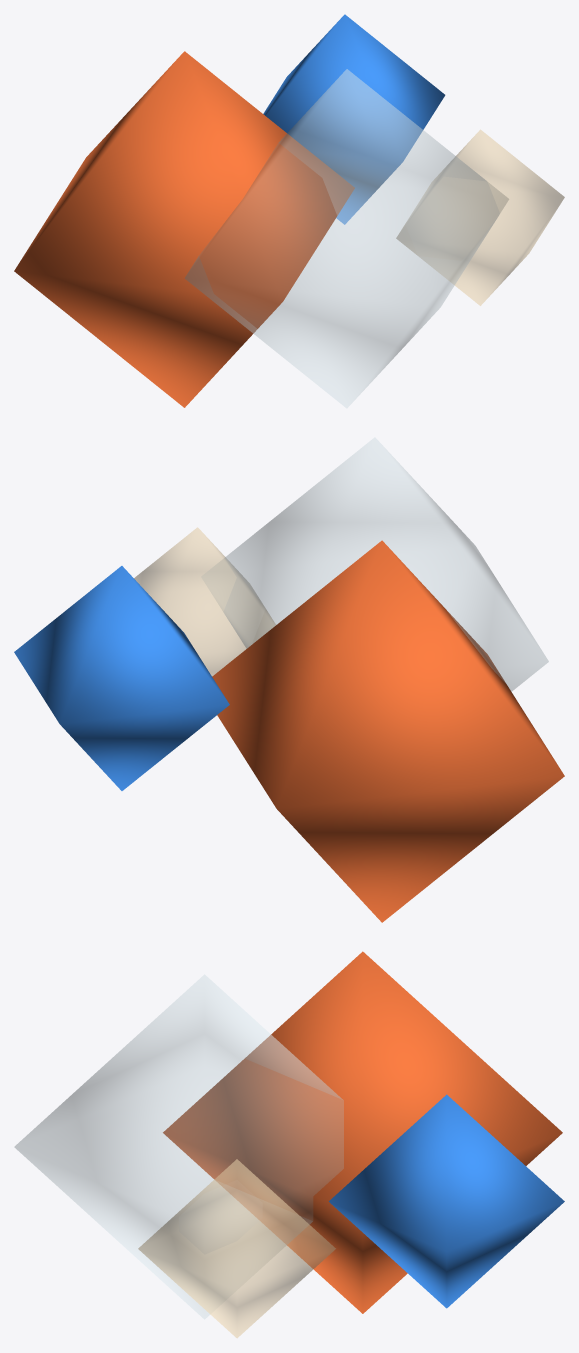
The model's file is glass_material_test.gltf.
The picture shows the model from 3 angles, top to bottom: view 1: azimuth 30°, elevation 25°; view 2: azimuth 150°, elevation 25°; view 3: azimuth 270°, elevation 25°; orthographic projection. The views are drawn at different scales.
Visible parts, largest first — view 1: WarmBackground, TransmissionCrystal, CoolBackground, RoughTransmissionCrystal; view 2: WarmBackground, TransmissionCrystal, CoolBackground, RoughTransmissionCrystal; view 3: TransmissionCrystal, WarmBackground, CoolBackground, RoughTransmissionCrystal.
Part boxes in pixels (<box>): WarmBackground: <box>14,51,354,407</box>; TransmissionCrystal: <box>185,69,508,408</box>; CoolBackground: <box>263,14,445,224</box>; RoughTransmissionCrystal: <box>396,129,564,305</box>; WarmBackground: <box>212,540,564,922</box>; TransmissionCrystal: <box>201,437,548,691</box>; CoolBackground: <box>14,566,229,790</box>; RoughTransmissionCrystal: <box>134,527,275,676</box>; TransmissionCrystal: <box>14,974,343,1319</box>; WarmBackground: <box>163,951,562,1313</box>; CoolBackground: <box>329,1094,564,1308</box>; RoughTransmissionCrystal: <box>138,1159,335,1338</box>.
Bounding box in the file's own units: 3.01 × 2.21 × 2.89.
